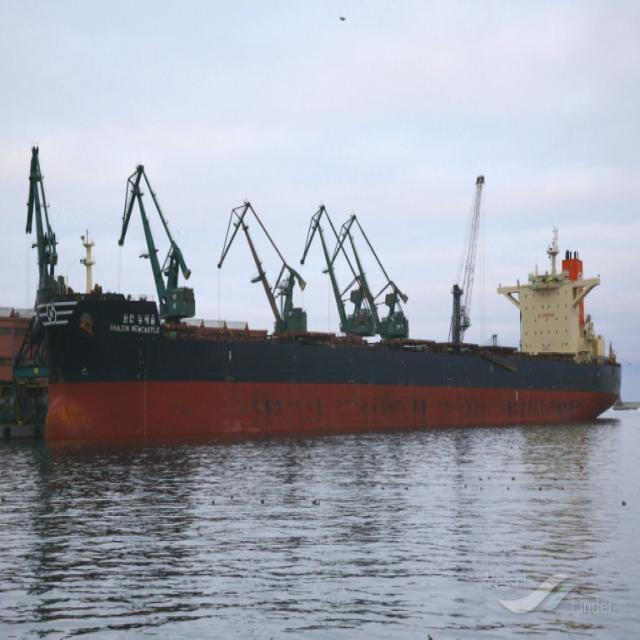OCR: (103, 314, 161, 338)
